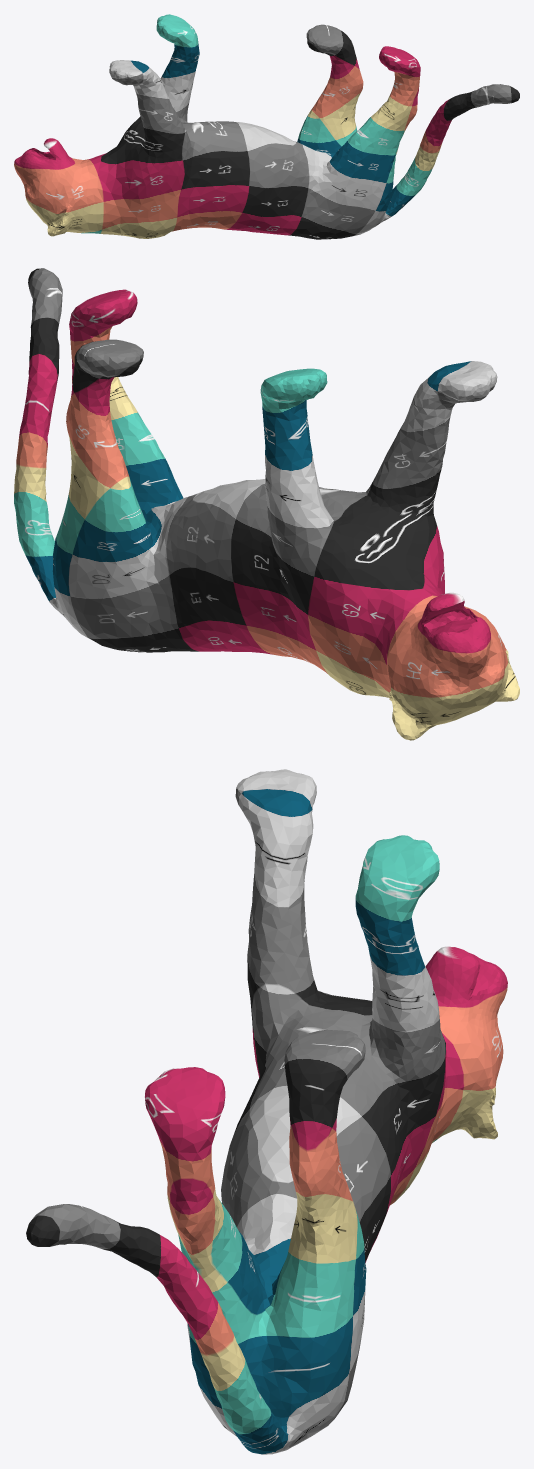
Rendered from cougar_02-cougar_01.obj.
3 renders of one model, top to bottom at view 1: azimuth 30°, elevation 25°; view 2: azimuth 150°, elevation 25°; view 3: azimuth 270°, elevation 25°, orthographic. The views are drawn at different scales.
Parts seen in each view (by area): view 1: cougar_02-cougar_01_export; view 2: cougar_02-cougar_01_export; view 3: cougar_02-cougar_01_export.
Part boxes in pixels (<box>): cougar_02-cougar_01_export: <box>14,14,519,239</box>; cougar_02-cougar_01_export: <box>14,268,519,740</box>; cougar_02-cougar_01_export: <box>26,769,507,1454</box>.
Bounding box in the file's own units: 1.06 × 0.5852 × 0.5632.
